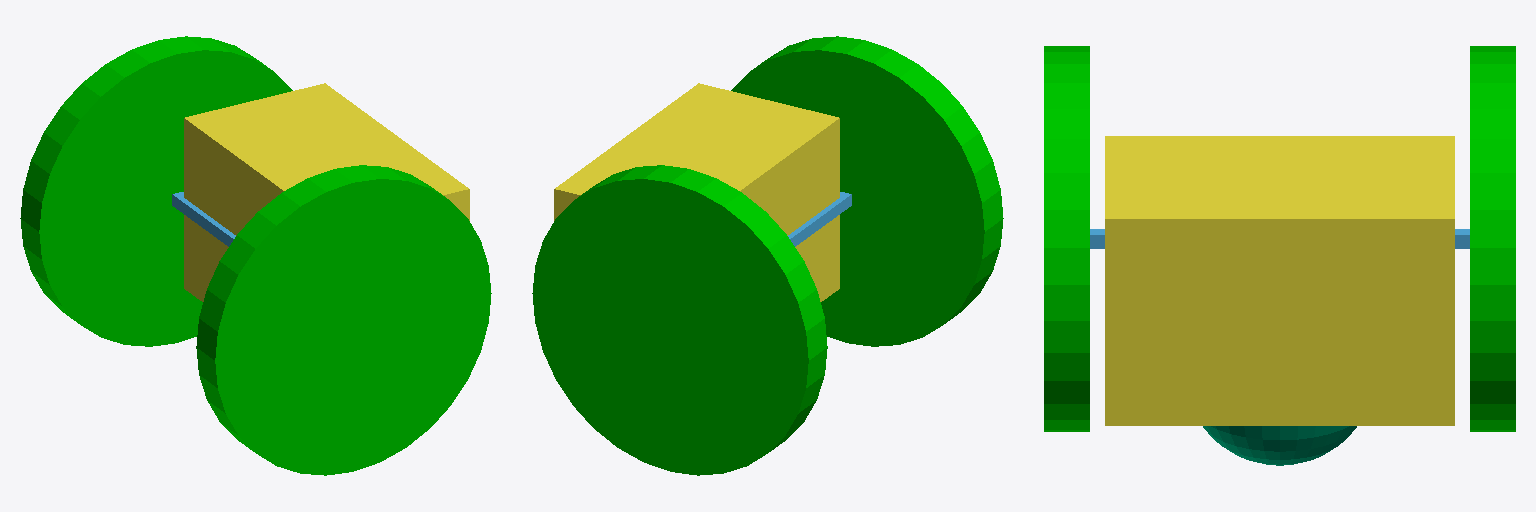
The robot description file, URDF, robot "mdu":
<?xml version="1.0" encoding="utf-8"?>
<!-- =================================================================================== -->
<!-- |    This document was autogenerated by xacro from [local-path]/wheelchair/src/mdu_description/urdf/mdu.xacro | -->
<!-- |    EDITING THIS FILE BY HAND IS NOT RECOMMENDED                                 | -->
<!-- =================================================================================== -->
<robot name="mdu" xmlns:xacro="http://www.ros.org/wiki/xacro">
  <gazebo>
    <plugin filename="libgazebo_ros_diff_drive.so" name="differential_drive_controller">
      <legacyMode>false</legacyMode>
      <alwaysOn>true</alwaysOn>
      <updateRate>20</updateRate>
      <leftJoint>axle_rear_left_wheel_joint</leftJoint>
      <rightJoint>axle_rear_right_wheel_joint</rightJoint>
      <wheelSeparation>0.28</wheelSeparation>
      <wheelDiameter>0.254</wheelDiameter>
      <torque>20</torque>
      <commandTopic>cmd_vel</commandTopic>
      <odometryTopic>odom</odometryTopic>
      <odometryFrame>odom</odometryFrame>
      <robotBaseFrame>footprint</robotBaseFrame>
    </plugin>
  </gazebo>
  <gazebo reference="footprint">
    <material>Gazebo/Red</material>
  </gazebo>
  <gazebo reference="rear_right_wheel">
    <material>Gazebo/Black</material>
    <mu1 value="200.0"/>
    <mu2 value="100.0"/>
    <kp value="10000000.0"/>
    <kd value="1.0"/>
  </gazebo>
  <gazebo reference="rear_left_wheel">
    <material>Gazebo/Black</material>
    <mu1 value="200.0"/>
    <mu2 value="100.0"/>
    <kp value="10000000.0"/>
    <kd value="1.0"/>
    <fdir1 value="1 0 0"/>
  </gazebo>
  <material name="black">
    <color rgba="0.0 0.0 0.0 1.0"/>
  </material>
  <material name="blue">
    <color rgba="0.0 0.0 0.8 1.0"/>
  </material>
  <material name="green">
    <color rgba="0.0 0.8 0.0 1.0"/>
  </material>
  <material name="grey">
    <color rgba="0.2 0.2 0.2 1.0"/>
  </material>
  <material name="orange">
    <color rgba="1.0 0.423529411765 0.0392156862745 1.0"/>
  </material>
  <material name="brown">
    <color rgba="0.870588235294 0.811764705882 0.764705882353 1.0"/>
  </material>
  <material name="red">
    <color rgba="0.8 0.0 0.0 1.0"/>
  </material>
  <material name="white">
    <color rgba="1.0 1.0 1.0 1.0"/>
  </material>
  <link name="footprint">
    <pose rpy=" 0 0 0" xyz="0 0 0"/>
    <visual>
      <origin rpy=" 0 0 0" xyz="0 0 0"/>
      <geometry>
        <box size="0.01 0.01 0.01"/>
      </geometry>
    </visual>
    <!--visual>
      <origin xyz="0 0 0" rpy="0 0 -3.14"/>
      <geometry>
         <mesh filename="package://wheelchair_description/meshes/wheelchair_chasis.stl" scale="0.01 0.01 0.01"/>
      </geometry>
  </visual-->
  </link>
  <link name="axle">
    <inertial>
      <origin rpy=" 0 0 0" xyz="0 0 0"/>
      <mass value="2.0"/>
      <inertia ixx="0.0130833333333" ixy="0" ixz="0" iyy="3.33333333333e-05" iyz="0" izz="3.33333333333e-05"/>
    </inertial>
    <collision name="collision">
      <origin rpy=" 0 0 0" xyz="0 0 0"/>
      <geometry>
        <box size="0.01 0.28 0.01"/>
      </geometry>
    </collision>
    <visual>
      <origin rpy=" 0 0 0" xyz="0 0 0"/>
      <geometry>
        <box size="0.01 0.28 0.01"/>
      </geometry>
    </visual>
  </link>
  <link name="caster">
    <collision name="caster_collision">
      <origin rpy=" 0 0 0" xyz="0 0 0"/>
      <geometry>
        <sphere radius="0.0635"/>
      </geometry>
      <surface>
        <friction>
          <ode>
            <mu>0</mu>
            <mu2>0</mu2>
            <slip1>1.0</slip1>
            <slip2>1.0</slip2>
          </ode>
        </friction>
      </surface>
    </collision>
    <visual name="caster_visual">
      <origin rpy=" 0 0 0" xyz="0 0 0"/>
      <geometry>
        <sphere radius="0.0635"/>
      </geometry>
    </visual>
  </link>
  <joint name="footprint_axle_joint" type="fixed">
    <origin rpy="0 0 0" xyz="0 0 0.127"/>
    <parent link="footprint"/>
    <child link="axle"/>
  </joint>
  <link name="base">
    <collision name="base_chassis_collision">
      <geometry>
        <box size="0.13 0.23 0.15"/>
      </geometry>
    </collision>
    <visual name="base_visual">
      <origin rpy="0 0 0" xyz="0.065 0 0"/>
      <geometry>
        <box size="0.13 0.23 0.15"/>
      </geometry>
    </visual>
    <inertial name="base_intertial">
      <origin rpy="0 0 0" xyz="0.065 0 0"/>
      <mass value="10.0"/>
      <inertia ixx="0.0628333333333" ixy="0" ixz="0" iyy="0.0328333333333" iyz="0" izz="0.0328333333333"/>
    </inertial>
  </link>
  <joint name="axle_base_joint" type="fixed">
    <origin rpy="0 0 0" xyz="0 0 0"/>
    <parent link="axle"/>
    <child link="base"/>
  </joint>
  <joint name="base_caster_joint" type="fixed">
    <origin rpy="0 0 0" xyz="0.0665 0 -0.0635"/>
    <parent link="base"/>
    <child link="caster"/>
  </joint>
  <link name="rear_left_wheel">
    <collision name="rear_left_wheel_collision">
      <origin rpy="-1.57079632679 0 0" xyz=" 0 0 0"/>
      <geometry>
        <cylinder length="0.05" radius="0.127"/>
      </geometry>
    </collision>
    <visual name="rear_left_wheel_visual">
      <transparency>0.1</transparency>
      <origin rpy="-1.57079632679 0 0" xyz=" 0 0 0"/>
      <geometry>
        <cylinder length="0.03" radius="0.127"/>
      </geometry>
      <material name="green"/>
    </visual>
    <!--visual name="${lr}_visual_mesh">
        <origin xyz="${xyz}" rpy="${rpy}" />

        <geometry>
          <mesh filename="package://wheelchair_description/meshes/${meshFile}.stl" scale="0.01 0.01 0.01"/>
        </geometry>
      </visual-->
    <inertial name="rear_left_wheel_visual_intertial">
      <origin rpy="0 1.57079632679 1.57079632679" xyz="0 0 0"/>
      <mass value="3.0"/>
      <inertia ixx="0.01272175" ixy="0" ixz="0" iyy="0.01272175" iyz="0" izz="0.0241935"/>
    </inertial>
    <!-- This block connects the wheel joint to an actuator (motor), which informs both
		simulation and visualization of the robot -->
    <!--transmission name="${lr}_wheel_trans">
		  <type>transmission_interface/SimpleTransmission</type>
		  <actuator name="${lr}_wheel_motor">
			<mechanicalReduction>1</mechanicalReduction>
		  </actuator>
		  <joint name="${lr}_motor_wheel_joint">
			<hardwareInterface>VelocityJointInterface</hardwareInterface>
		  </joint>
		</transmission-->
  </link>
  <joint name="axle_rear_left_wheel_joint" type="continuous">
    <origin rpy="0 0 0" xyz="0 0.14 0"/>
    <child link="rear_left_wheel"/>
    <parent link="axle"/>
    <axis rpy="0 0 0" xyz="0 1 0"/>
    <limit effort="100" velocity="100"/>
    <joint_properties damping="0.01" friction="0.5"/>
  </joint>
  <link name="rear_right_wheel">
    <collision name="rear_right_wheel_collision">
      <origin rpy="1.57079632679 0 0" xyz=" 0 0 0"/>
      <geometry>
        <cylinder length="0.05" radius="0.127"/>
      </geometry>
    </collision>
    <visual name="rear_right_wheel_visual">
      <transparency>0.1</transparency>
      <origin rpy="1.57079632679 0 0" xyz=" 0 0 0"/>
      <geometry>
        <cylinder length="0.03" radius="0.127"/>
      </geometry>
      <material name="green"/>
    </visual>
    <!--visual name="${lr}_visual_mesh">
        <origin xyz="${xyz}" rpy="${rpy}" />

        <geometry>
          <mesh filename="package://wheelchair_description/meshes/${meshFile}.stl" scale="0.01 0.01 0.01"/>
        </geometry>
      </visual-->
    <inertial name="rear_right_wheel_visual_intertial">
      <origin rpy="0 1.57079632679 1.57079632679" xyz="0 0 0"/>
      <mass value="3.0"/>
      <inertia ixx="0.01272175" ixy="0" ixz="0" iyy="0.01272175" iyz="0" izz="0.0241935"/>
    </inertial>
    <!-- This block connects the wheel joint to an actuator (motor), which informs both
		simulation and visualization of the robot -->
    <!--transmission name="${lr}_wheel_trans">
		  <type>transmission_interface/SimpleTransmission</type>
		  <actuator name="${lr}_wheel_motor">
			<mechanicalReduction>1</mechanicalReduction>
		  </actuator>
		  <joint name="${lr}_motor_wheel_joint">
			<hardwareInterface>VelocityJointInterface</hardwareInterface>
		  </joint>
		</transmission-->
  </link>
  <joint name="axle_rear_right_wheel_joint" type="continuous">
    <origin rpy="0 0 0" xyz="0 -0.14 0"/>
    <child link="rear_right_wheel"/>
    <parent link="axle"/>
    <axis rpy="0 0 0" xyz="0 1 0"/>
    <limit effort="100" velocity="100"/>
    <joint_properties damping="0.01" friction="0.5"/>
  </joint>
</robot>

--- What the picture shows (computed from the rendered views, not written in the file) ---
The picture shows the robot from 3 angles, left to right: view 1: azimuth 30°, elevation 25°; view 2: azimuth 150°, elevation 25°; view 3: azimuth 270°, elevation 25°; orthographic projection.
Robot: mdu — 6 links, 5 joints (2 continuous, 3 fixed); root link footprint; default pose: every joint at zero.
Links seen in each view (by area): view 1: rear_right_wheel, rear_left_wheel, base, axle; view 2: rear_left_wheel, rear_right_wheel, base, axle; view 3: base, rear_left_wheel, rear_right_wheel, caster, axle.
Link boxes in pixels (<box>): rear_right_wheel: <box>196,165,491,475</box>; rear_left_wheel: <box>20,36,292,346</box>; base: <box>184,83,469,301</box>; axle: <box>172,192,235,246</box>; rear_left_wheel: <box>532,165,827,475</box>; rear_right_wheel: <box>731,36,1003,346</box>; base: <box>554,83,839,301</box>; axle: <box>788,192,851,246</box>; base: <box>1105,136,1454,425</box>; rear_left_wheel: <box>1470,46,1515,431</box>; rear_right_wheel: <box>1044,46,1089,431</box>; caster: <box>1203,426,1356,465</box>; axle: <box>1090,229,1469,248</box>.
Bounding box of the posed robot: 0.257 × 0.31 × 0.259 m (x, y, z).
Geometry: primitives only (box / cylinder / sphere), no mesh files.
